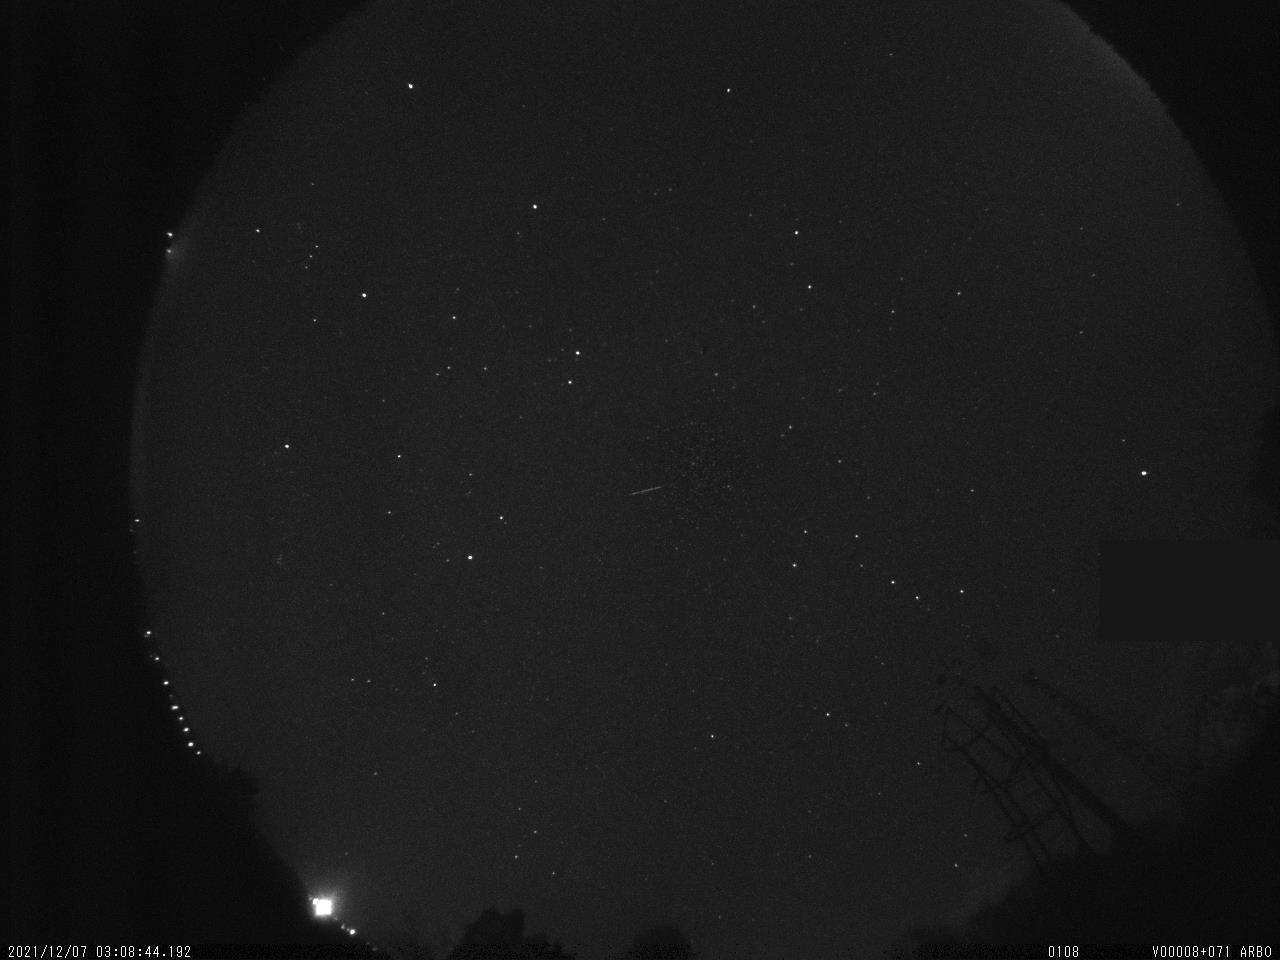Meteor: (627, 481, 668, 499)
